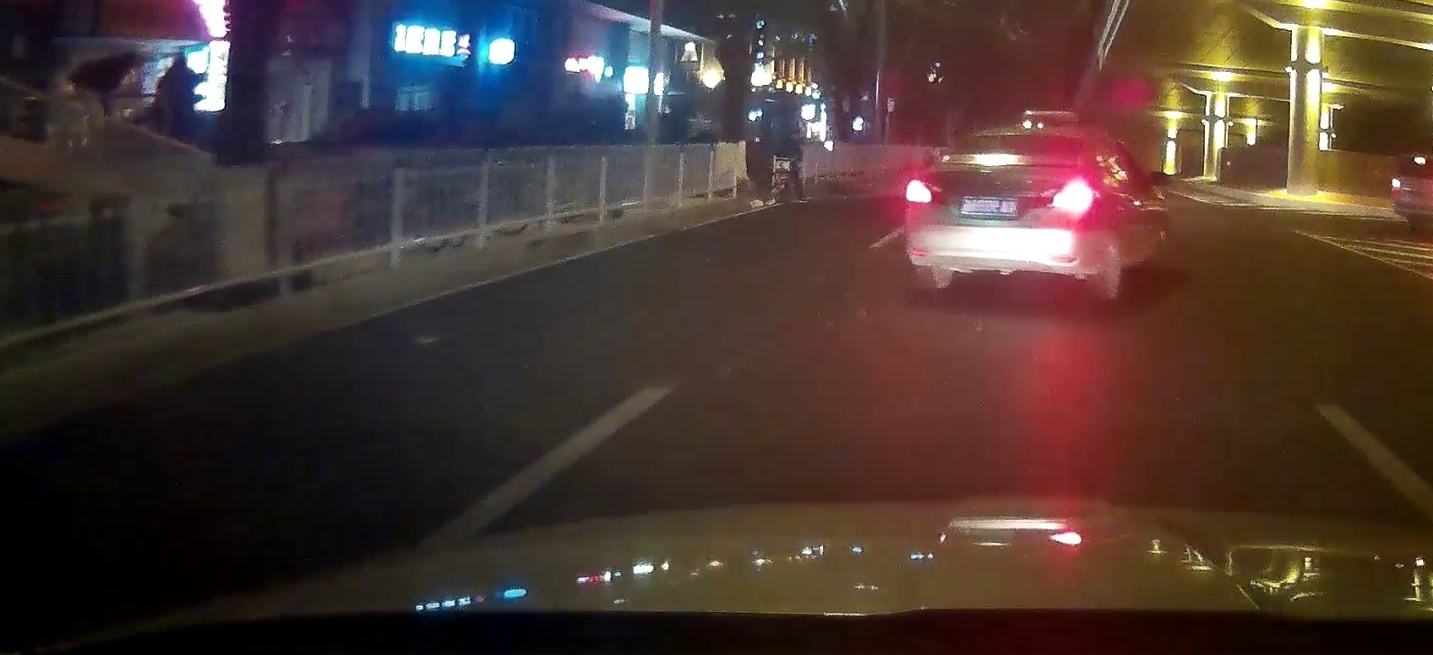L_light: (902, 178, 947, 206)
R_light: (1037, 179, 1099, 215)
T_light: (1007, 133, 1029, 138)
night-right: (904, 124, 1102, 300)
